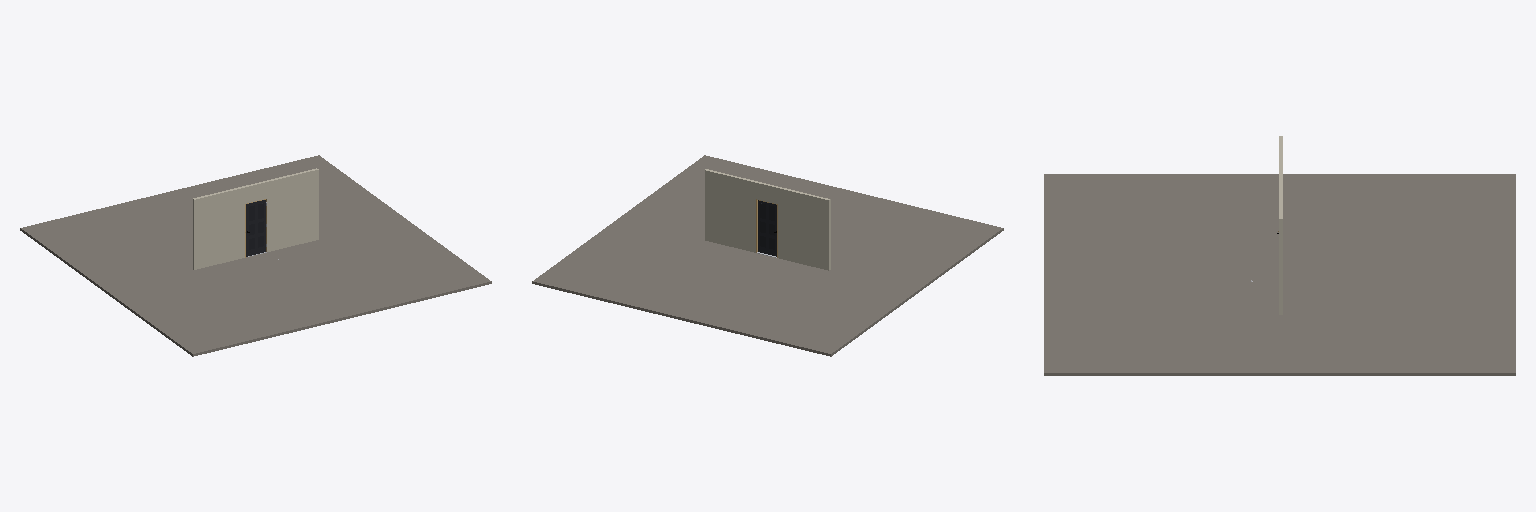
robot.urdf — db0879_swing_single_simple:
<?xml version="1.0" ?>
<robot xmlns:doorbench="https://github.com/adamraudonis/DoorBench/schema/urdf-ext" name="db0879_swing_single_simple">
  <link name="world_env">
    <visual name="floor_vis">
      <origin xyz="0 0 -0.05" rpy="0 0 0"/>
      <geometry>
        <box size="12 12 0.1"/>
      </geometry>
      <material name="mat_floor"/>
    </visual>
    <collision name="floor_col">
      <origin xyz="0 0 -0.05" rpy="0 0 0"/>
      <geometry>
        <box size="12 12 0.1"/>
      </geometry>
    </collision>
    <visual name="wall_left_vis">
      <origin xyz="-1.47975 0.0285 1.35" rpy="0 0 0"/>
      <geometry>
        <box size="2.0405 0.115 2.7"/>
      </geometry>
      <material name="mat_wall"/>
    </visual>
    <collision name="wall_left_col">
      <origin xyz="-1.47975 0.0285 1.35" rpy="0 0 0"/>
      <geometry>
        <box size="2.0405 0.115 2.7"/>
      </geometry>
    </collision>
    <visual name="wall_right_vis">
      <origin xyz="1.46475 0.0285 1.35" rpy="0 0 0"/>
      <geometry>
        <box size="2.0705 0.115 2.7"/>
      </geometry>
      <material name="mat_wall"/>
    </visual>
    <collision name="wall_right_col">
      <origin xyz="1.46475 0.0285 1.35" rpy="0 0 0"/>
      <geometry>
        <box size="2.0705 0.115 2.7"/>
      </geometry>
    </collision>
    <visual name="wall_header_vis">
      <origin xyz="-0.015 0.0285 2.397" rpy="0 0 0"/>
      <geometry>
        <box size="0.889 0.115 0.606"/>
      </geometry>
      <material name="mat_wall"/>
    </visual>
    <collision name="wall_header_col">
      <origin xyz="-0.015 0.0285 2.397" rpy="0 0 0"/>
      <geometry>
        <box size="0.889 0.115 0.606"/>
      </geometry>
    </collision>
    <visual name="hinge_0_jamb_vis">
      <origin xyz="0.4075 -0.029 0.267" rpy="3.141593 0 3.141593"/>
      <geometry>
        <mesh filename="../../hardware/hinge_jamb_e1d088f8dc.obj"/>
      </geometry>
      <material name="mat_hinge"/>
    </visual>
    <visual name="hinge_1_jamb_vis">
      <origin xyz="0.4075 -0.029 1.029" rpy="3.141593 0 3.141593"/>
      <geometry>
        <mesh filename="../../hardware/hinge_jamb_e1d088f8dc.obj"/>
      </geometry>
      <material name="mat_hinge"/>
    </visual>
    <visual name="hinge_2_jamb_vis">
      <origin xyz="0.4075 -0.029 1.861" rpy="3.141593 0 3.141593"/>
      <geometry>
        <mesh filename="../../hardware/hinge_jamb_e1d088f8dc.obj"/>
      </geometry>
      <material name="mat_hinge"/>
    </visual>
    <visual name="leaf_deadbolt_strike_b_vis">
      <origin xyz="-0.41 0 1.0865" rpy="1.570796 0 1.570796"/>
      <geometry>
        <box size="0.031 0.006 0.001"/>
      </geometry>
      <material name="mat_deadbolt"/>
    </visual>
    <visual name="leaf_deadbolt_strike_l_vis">
      <origin xyz="-0.41 -0.0125 1.105" rpy="1.570796 0 1.570796"/>
      <geometry>
        <box size="0.006 0.031 0.001"/>
      </geometry>
      <material name="mat_deadbolt"/>
    </visual>
    <visual name="leaf_deadbolt_strike_t_vis">
      <origin xyz="-0.41 0 1.1235" rpy="1.570796 0 1.570796"/>
      <geometry>
        <box size="0.031 0.006 0.001"/>
      </geometry>
      <material name="mat_deadbolt"/>
    </visual>
    <visual name="leaf_deadbolt_strike_r_vis">
      <origin xyz="-0.41 0.0125 1.105" rpy="1.570796 0 1.570796"/>
      <geometry>
        <box size="0.006 0.031 0.001"/>
      </geometry>
      <material name="mat_deadbolt"/>
    </visual>
    <visual name="jamb_hinge_vis">
      <origin xyz="0.42 0.0285 1.0225" rpy="0 0 0"/>
      <geometry>
        <box size="0.019 0.115 2.045"/>
      </geometry>
      <material name="mat_frame"/>
    </visual>
    <collision name="jamb_hinge_col">
      <origin xyz="0.42 0.0285 1.0225" rpy="0 0 0"/>
      <geometry>
        <box size="0.019 0.115 2.045"/>
      </geometry>
    </collision>
    <visual name="strike_965_wall_n_vis">
      <origin xyz="-0.435 0.04625 0.965" rpy="0 0 0"/>
      <geometry>
        <box size="0.049 0.0795 0.03"/>
      </geometry>
      <material name="mat_frame"/>
    </visual>
    <collision name="strike_965_wall_n_col">
      <origin xyz="-0.435 0.04625 0.965" rpy="0 0 0"/>
      <geometry>
        <box size="0.049 0.0795 0.03"/>
      </geometry>
    </collision>
    <visual name="strike_965_wall_p_vis">
      <origin xyz="-0.435 -0.0145 0.965" rpy="0 0 0"/>
      <geometry>
        <box size="0.049 0.016 0.03"/>
      </geometry>
      <material name="mat_frame"/>
    </visual>
    <collision name="strike_965_wall_p_col">
      <origin xyz="-0.435 -0.0145 0.965" rpy="0 0 0"/>
      <geometry>
        <box size="0.049 0.016 0.03"/>
      </geometry>
    </collision>
    <visual name="strike_965_ramp_vis">
      <origin xyz="-0.439913 -0.026543 0.965" rpy="0 0 -0.463648"/>
      <geometry>
        <box size="0.049 0.033541 0.03"/>
      </geometry>
      <material name="mat_frame"/>
    </visual>
    <collision name="strike_965_ramp_col">
      <origin xyz="-0.439913 -0.026543 0.965" rpy="0 0 -0.463648"/>
      <geometry>
        <box size="0.049 0.033541 0.03"/>
      </geometry>
    </collision>
    <visual name="strike_965_back_vis">
      <origin xyz="-0.444 0 0.965" rpy="0 0 0"/>
      <geometry>
        <box size="0.031 0.013 0.03"/>
      </geometry>
      <material name="mat_frame"/>
    </visual>
    <collision name="strike_965_back_col">
      <origin xyz="-0.444 0 0.965" rpy="0 0 0"/>
      <geometry>
        <box size="0.031 0.013 0.03"/>
      </geometry>
    </collision>
    <visual name="strike_1105_wall_n_vis">
      <origin xyz="-0.435 0.04775 1.105" rpy="0 0 0"/>
      <geometry>
        <box size="0.049 0.0765 0.031"/>
      </geometry>
      <material name="mat_frame"/>
    </visual>
    <collision name="strike_1105_wall_n_col">
      <origin xyz="-0.435 0.04775 1.105" rpy="0 0 0"/>
      <geometry>
        <box size="0.049 0.0765 0.031"/>
      </geometry>
    </collision>
    <visual name="strike_1105_wall_p_vis">
      <origin xyz="-0.435 -0.01925 1.105" rpy="0 0 0"/>
      <geometry>
        <box size="0.049 0.0195 0.031"/>
      </geometry>
      <material name="mat_frame"/>
    </visual>
    <collision name="strike_1105_wall_p_col">
      <origin xyz="-0.435 -0.01925 1.105" rpy="0 0 0"/>
      <geometry>
        <box size="0.049 0.0195 0.031"/>
      </geometry>
    </collision>
    <visual name="strike_1105_back_vis">
      <origin xyz="-0.4497 0 1.105" rpy="0 0 0"/>
      <geometry>
        <box size="0.0196 0.019 0.031"/>
      </geometry>
      <material name="mat_frame"/>
    </visual>
    <collision name="strike_1105_back_col">
      <origin xyz="-0.4497 0 1.105" rpy="0 0 0"/>
      <geometry>
        <box size="0.0196 0.019 0.031"/>
      </geometry>
    </collision>
    <visual name="jamb_strike_0_vis">
      <origin xyz="-0.435 0.0285 0.475" rpy="0 0 0"/>
      <geometry>
        <box size="0.049 0.115 0.95"/>
      </geometry>
      <material name="mat_frame"/>
    </visual>
    <collision name="jamb_strike_0_col">
      <origin xyz="-0.435 0.0285 0.475" rpy="0 0 0"/>
      <geometry>
        <box size="0.049 0.115 0.95"/>
      </geometry>
    </collision>
    <visual name="jamb_strike_1_vis">
      <origin xyz="-0.435 0.0285 1.03475" rpy="0 0 0"/>
      <geometry>
        <box size="0.049 0.115 0.1095"/>
      </geometry>
      <material name="mat_frame"/>
    </visual>
    <collision name="jamb_strike_1_col">
      <origin xyz="-0.435 0.0285 1.03475" rpy="0 0 0"/>
      <geometry>
        <box size="0.049 0.115 0.1095"/>
      </geometry>
    </collision>
    <visual name="jamb_strike_2_vis">
      <origin xyz="-0.435 0.0285 1.58275" rpy="0 0 0"/>
      <geometry>
        <box size="0.049 0.115 0.9245"/>
      </geometry>
      <material name="mat_frame"/>
    </visual>
    <collision name="jamb_strike_2_col">
      <origin xyz="-0.435 0.0285 1.58275" rpy="0 0 0"/>
      <geometry>
        <box size="0.049 0.115 0.9245"/>
      </geometry>
    </collision>
    <visual name="jamb_head_vis">
      <origin xyz="-0.015 0.0285 2.0545" rpy="0 0 0"/>
      <geometry>
        <box size="0.889 0.115 0.019"/>
      </geometry>
      <material name="mat_frame"/>
    </visual>
    <collision name="jamb_head_col">
      <origin xyz="-0.015 0.0285 2.0545" rpy="0 0 0"/>
      <geometry>
        <box size="0.889 0.115 0.019"/>
      </geometry>
    </collision>
    <visual name="head_stud_vis">
      <origin xyz="-0.015 0.0285 2.079" rpy="0 0 0"/>
      <geometry>
        <box size="0.889 0.115 0.03"/>
      </geometry>
      <material name="mat_wall"/>
    </visual>
    <collision name="head_stud_col">
      <origin xyz="-0.015 0.0285 2.079" rpy="0 0 0"/>
      <geometry>
        <box size="0.889 0.115 0.03"/>
      </geometry>
    </collision>
    <visual name="stop_hinge_vis">
      <origin xyz="0.405 0.0385 1.0225" rpy="0 0 0"/>
      <geometry>
        <box size="0.011 0.032 2.045"/>
      </geometry>
      <material name="mat_frame"/>
    </visual>
    <collision name="stop_hinge_col">
      <origin xyz="0.405 0.0385 1.0225" rpy="0 0 0"/>
      <geometry>
        <box size="0.011 0.032 2.045"/>
      </geometry>
    </collision>
    <visual name="stop_strike_vis">
      <origin xyz="-0.405 0.0385 1.0225" rpy="0 0 0"/>
      <geometry>
        <box size="0.011 0.032 2.045"/>
      </geometry>
      <material name="mat_frame"/>
    </visual>
    <collision name="stop_strike_col">
      <origin xyz="-0.405 0.0385 1.0225" rpy="0 0 0"/>
      <geometry>
        <box size="0.011 0.032 2.045"/>
      </geometry>
    </collision>
    <visual name="stop_head_vis">
      <origin xyz="0 0.0385 2.0395" rpy="0 0 0"/>
      <geometry>
        <box size="0.821 0.032 0.011"/>
      </geometry>
      <material name="mat_frame"/>
    </visual>
    <collision name="stop_head_col">
      <origin xyz="0 0.0385 2.0395" rpy="0 0 0"/>
      <geometry>
        <box size="0.821 0.032 0.011"/>
      </geometry>
    </collision>
    <visual name="threshold_vis">
      <origin xyz="0 0.0285 0.0065" rpy="0 0 0"/>
      <geometry>
        <box size="0.859 0.115 0.013"/>
      </geometry>
      <material name="mat_threshold"/>
    </visual>
    <collision name="threshold_col">
      <origin xyz="0 0.0285 0.0065" rpy="0 0 0"/>
      <geometry>
        <box size="0.859 0.115 0.013"/>
      </geometry>
    </collision>
    <visual name="floor_stop_dome_vis">
      <origin xyz="0.487653 -0.715677 0" rpy="0 0 0"/>
      <geometry>
        <sphere radius="0.025"/>
      </geometry>
      <material name="mat_stop"/>
    </visual>
    <collision name="floor_stop_dome_col">
      <origin xyz="0.487653 -0.715677 0" rpy="0 0 0"/>
      <geometry>
        <sphere radius="0.025"/>
      </geometry>
    </collision>
  </link>
  <link name="leaf">
    <inertial>
      <origin xyz="-0.391884 0.028333 1.029916" rpy="0 0 0"/>
      <mass value="20.705868"/>
      <inertia ixx="7.127164869" ixy="0.005410582" ixz="-0.006889588" iyy="8.347632147" iyz="0.000309457" izz="1.227745685"/>
    </inertial>
    <visual name="leaf_slab_vis">
      <origin xyz="-0.4065 0.029 1.029" rpy="0 0 0"/>
      <geometry>
        <box size="0.813 0.044 2.024"/>
      </geometry>
      <material name="mat_leaf"/>
    </visual>
    <collision name="leaf_slab_col">
      <origin xyz="-0.4065 0.029 1.029" rpy="0 0 0"/>
      <geometry>
        <box size="0.813 0.044 2.024"/>
      </geometry>
    </collision>
    <visual name="leaf_panel_0_n_vis">
      <origin xyz="-0.22575 0.004 0.467664" rpy="0 0 0"/>
      <geometry>
        <box size="0.2315 0.006 0.416048"/>
      </geometry>
      <material name="mat_leaf_panel"/>
    </visual>
    <visual name="leaf_panel_0_p_vis">
      <origin xyz="-0.22575 0.054 0.467664" rpy="0 0 0"/>
      <geometry>
        <box size="0.2315 0.006 0.416048"/>
      </geometry>
      <material name="mat_leaf_panel"/>
    </visual>
    <visual name="leaf_panel_1_n_vis">
      <origin xyz="-0.58725 0.004 0.467664" rpy="0 0 0"/>
      <geometry>
        <box size="0.2315 0.006 0.416048"/>
      </geometry>
      <material name="mat_leaf_panel"/>
    </visual>
    <visual name="leaf_panel_1_p_vis">
      <origin xyz="-0.58725 0.054 0.467664" rpy="0 0 0"/>
      <geometry>
        <box size="0.2315 0.006 0.416048"/>
      </geometry>
      <material name="mat_leaf_panel"/>
    </visual>
    <visual name="leaf_panel_2_n_vis">
      <origin xyz="-0.22575 0.004 1.013712" rpy="0 0 0"/>
      <geometry>
        <box size="0.2315 0.006 0.416048"/>
      </geometry>
      <material name="mat_leaf_panel"/>
    </visual>
    <visual name="leaf_panel_2_p_vis">
      <origin xyz="-0.22575 0.054 1.013712" rpy="0 0 0"/>
      <geometry>
        <box size="0.2315 0.006 0.416048"/>
      </geometry>
      <material name="mat_leaf_panel"/>
    </visual>
    <visual name="leaf_panel_3_n_vis">
      <origin xyz="-0.58725 0.004 1.013712" rpy="0 0 0"/>
      <geometry>
        <box size="0.2315 0.006 0.416048"/>
      </geometry>
      <material name="mat_leaf_panel"/>
    </visual>
    <visual name="leaf_panel_3_p_vis">
      <origin xyz="-0.58725 0.054 1.013712" rpy="0 0 0"/>
      <geometry>
        <box size="0.2315 0.006 0.416048"/>
      </geometry>
      <material name="mat_leaf_panel"/>
    </visual>
    <visual name="leaf_panel_4_n_vis">
      <origin xyz="-0.22575 0.004 1.635768" rpy="0 0 0"/>
      <geometry>
        <box size="0.2315 0.006 0.568064"/>
      </geometry>
      <material name="mat_leaf_panel"/>
    </visual>
    <visual name="leaf_panel_4_p_vis">
      <origin xyz="-0.22575 0.054 1.635768" rpy="0 0 0"/>
      <geometry>
        <box size="0.2315 0.006 0.568064"/>
      </geometry>
      <material name="mat_leaf_panel"/>
    </visual>
    <visual name="leaf_panel_5_n_vis">
      <origin xyz="-0.58725 0.004 1.635768" rpy="0 0 0"/>
      <geometry>
        <box size="0.2315 0.006 0.568064"/>
      </geometry>
      <material name="mat_leaf_panel"/>
    </visual>
    <visual name="leaf_panel_5_p_vis">
      <origin xyz="-0.58725 0.054 1.635768" rpy="0 0 0"/>
      <geometry>
        <box size="0.2315 0.006 0.568064"/>
      </geometry>
      <material name="mat_leaf_panel"/>
    </visual>
    <visual name="hinge_0_vis">
      <origin xyz="0 0 0.267" rpy="3.141593 0 3.141593"/>
      <geometry>
        <mesh filename="../../hardware/hinge_e22b26c0c1.obj"/>
      </geometry>
      <material name="mat_hinge"/>
    </visual>
    <visual name="hinge_1_vis">
      <origin xyz="0 0 1.029" rpy="3.141593 0 3.141593"/>
      <geometry>
        <mesh filename="../../hardware/hinge_e22b26c0c1.obj"/>
      </geometry>
      <material name="mat_hinge"/>
    </visual>
    <visual name="hinge_2_vis">
      <origin xyz="0 0 1.861" rpy="3.141593 0 3.141593"/>
      <geometry>
        <mesh filename="../../hardware/hinge_e22b26c0c1.obj"/>
      </geometry>
      <material name="mat_hinge"/>
    </visual>
    <visual name="leaf_latch_bolt_faceplate_vis">
      <origin xyz="-0.8124 0.029 0.965" rpy="0 0 0"/>
      <geometry>
        <box size="0.0012 0.022 0.05"/>
      </geometry>
      <material name="mat_bolt"/>
    </visual>
    <visual name="leaf_deadbolt_faceplate_vis">
      <origin xyz="-0.8124 0.029 1.105" rpy="0 0 0"/>
      <geometry>
        <box size="0.0012 0.028 0.049"/>
      </geometry>
      <material name="mat_deadbolt"/>
    </visual>
  </link>
  <link name="leaf_handle">
    <inertial>
      <origin xyz="0.019728 0 0" rpy="0 0 0"/>
      <mass value="0.753175"/>
      <inertia ixx="0.002576944" ixy="0" ixz="0" iyy="0.000986163" iyz="0" izz="0.003459458"/>
    </inertial>
    <visual name="leaf_handle_lever_n_vis">
      <origin xyz="0 -0.022 0" rpy="-1.570796 0 3.141593"/>
      <geometry>
        <mesh filename="../../hardware/lever_57205841c3.obj"/>
      </geometry>
      <material name="mat_op_black_matte_metal"/>
    </visual>
    <collision name="leaf_handle_lever_col_n_col">
      <origin xyz="0.06 -0.077 0" rpy="0 1.570796 0"/>
      <geometry>
        <cylinder radius="0.007" length="0.106"/>
      </geometry>
    </collision>
    <collision name="leaf_handle_hub_col_n_col">
      <origin xyz="0 -0.052 0" rpy="-1.570796 0 0"/>
      <geometry>
        <cylinder radius="0.012" length="0.044"/>
      </geometry>
    </collision>
    <visual name="leaf_handle_lever_p_vis">
      <origin xyz="0 0.022 0" rpy="1.570796 0 3.141593"/>
      <geometry>
        <mesh filename="../../hardware/lever_57205841c3.obj"/>
      </geometry>
      <material name="mat_op_black_matte_metal"/>
    </visual>
    <collision name="leaf_handle_lever_col_p_col">
      <origin xyz="0.06 0.077 0" rpy="0 1.570796 0"/>
      <geometry>
        <cylinder radius="0.007" length="0.106"/>
      </geometry>
    </collision>
    <collision name="leaf_handle_hub_col_p_col">
      <origin xyz="0 0.052 0" rpy="-1.570796 0 0"/>
      <geometry>
        <cylinder radius="0.012" length="0.044"/>
      </geometry>
    </collision>
  </link>
  <link name="leaf_latch_bolt">
    <inertial>
      <origin xyz="0.008 0 0" rpy="0 0 0"/>
      <mass value="0.027149"/>
      <inertia ixx="0.000000328" ixy="0" ixz="0" iyy="0.000003943" iyz="0" izz="0.000003943"/>
    </inertial>
    <visual name="leaf_latch_bolt_capsule_vis">
      <origin xyz="0.008 0 0" rpy="0 -1.570796 0"/>
      <geometry>
        <cylinder radius="0.005" length="0.034"/>
      </geometry>
      <material name="mat_bolt"/>
    </visual>
    <collision name="leaf_latch_bolt_capsule_col">
      <origin xyz="0.008 0 0" rpy="0 -1.570796 0"/>
      <geometry>
        <cylinder radius="0.005" length="0.034"/>
      </geometry>
    </collision>
  </link>
  <link name="leaf_deadbolt">
    <inertial>
      <origin xyz="0.0023 0 0" rpy="0 0 0"/>
      <mass value="0.18836"/>
      <inertia ixx="0.000013829" ixy="0" ixz="0" iyy="0.000057986" iyz="0" izz="0.000052194"/>
    </inertial>
    <visual name="leaf_deadbolt_box_vis">
      <origin xyz="0.0023 0 0" rpy="0 0 0"/>
      <geometry>
        <box size="0.0554 0.016 0.025"/>
      </geometry>
      <material name="mat_deadbolt"/>
    </visual>
    <collision name="leaf_deadbolt_box_col">
      <origin xyz="0.0023 0 0" rpy="0 0 0"/>
      <geometry>
        <box size="0.0554 0.016 0.025"/>
      </geometry>
    </collision>
  </link>
  <joint name="leaf_hinge" type="revolute">
    <origin xyz="0.4075 -0.029 0" rpy="0 0 0"/>
    <parent link="world_env"/>
    <child link="leaf"/>
    <axis xyz="0 0 1"/>
    <limit lower="0" upper="1.658063" effort="2000" velocity="10"/>
    <dynamics damping="0.210326" friction="0.092555"/>
    <doorbench:closer damping_closing="0" damping_opening="0" backcheck_angle="0" backcheck_damping="0"/>
  </joint>
  <joint name="leaf_handle_hinge" type="revolute">
    <origin xyz="-0.758 0.029 0.965" rpy="0 0 0"/>
    <parent link="leaf"/>
    <child link="leaf_handle"/>
    <axis xyz="0 1 0"/>
    <limit lower="0" upper="0.87" effort="2000" velocity="10"/>
    <dynamics damping="0.212417" friction="0.042"/>
    <doorbench:spring stiffness="1" springref="-0.35" note="tau = -stiffness*(q - springref); not native URDF"/>
  </joint>
  <joint name="leaf_latch_bolt_slide" type="prismatic">
    <origin xyz="-0.813 0.029 0.965" rpy="0 0 0"/>
    <parent link="leaf"/>
    <child link="leaf_latch_bolt"/>
    <axis xyz="1 0 0"/>
    <limit lower="0" upper="0.014" effort="5000" velocity="10"/>
    <dynamics damping="2" friction="0.3"/>
    <doorbench:spring stiffness="400" springref="-0.01" note="tau = -stiffness*(q - springref); not native URDF"/>
    <mimic joint="leaf_handle_hinge" multiplier="0.017284" offset="0"/>
    <doorbench:coupling one_sided="true" note="MJCF uses a one-sided tendon (bolt may retract further, e.g. riding over the strike lip); mimic is bilateral"/>
  </joint>
  <joint name="leaf_deadbolt_fixed" type="fixed">
    <origin xyz="-0.813 0.029 1.105" rpy="0 0 0"/>
    <parent link="leaf"/>
    <child link="leaf_deadbolt"/>
  </joint>
  <material name="mat_bolt">
    <color rgba="0.75 0.76 0.77 1"/>
  </material>
  <material name="mat_deadbolt">
    <color rgba="0.85 0.66 0.3 1"/>
  </material>
  <material name="mat_floor">
    <color rgba="0.55 0.53 0.5 1"/>
  </material>
  <material name="mat_frame">
    <color rgba="0.82 0.7 0.5 1"/>
  </material>
  <material name="mat_hinge">
    <color rgba="0.65 0.66 0.68 1"/>
  </material>
  <material name="mat_leaf">
    <color rgba="0.2 0.21 0.23 1"/>
  </material>
  <material name="mat_leaf_panel">
    <color rgba="0.184 0.193 0.212 1"/>
  </material>
  <material name="mat_op_black_matte_metal">
    <color rgba="0.05 0.05 0.05 1"/>
  </material>
  <material name="mat_stop">
    <color rgba="0.9 0.9 0.92 1"/>
  </material>
  <material name="mat_threshold">
    <color rgba="0.8 0.81 0.83 1"/>
  </material>
  <material name="mat_wall">
    <color rgba="0.78 0.76 0.7 1"/>
  </material>
</robot>

--- Facts derived from the render (not from the file) ---
The picture shows the robot from 3 angles, left to right: view 1: azimuth 30°, elevation 25°; view 2: azimuth 150°, elevation 25°; view 3: azimuth 270°, elevation 25°; orthographic projection.
Model db0879_swing_single_simple with 5 links and 4 joints (2 revolute, 1 prismatic, 1 fixed), rooted at world_env, posed all joints at 0.
Links seen in each view (by area): view 1: world_env, leaf; view 2: world_env, leaf; view 3: world_env.
Boxes of the visible links, x1=… form: world_env: x1=20, y1=155, x2=491, y2=356; leaf: x1=246, y1=200, x2=266, y2=256; world_env: x1=532, y1=155, x2=1003, y2=356; leaf: x1=758, y1=200, x2=776, y2=256; world_env: x1=1044, y1=136, x2=1515, y2=375.
Bounding box of the posed robot: 12 × 12 × 2.8 m (x, y, z).
Meshes: 3 distinct files referenced, 8 mesh visuals loaded (3 OBJ).
